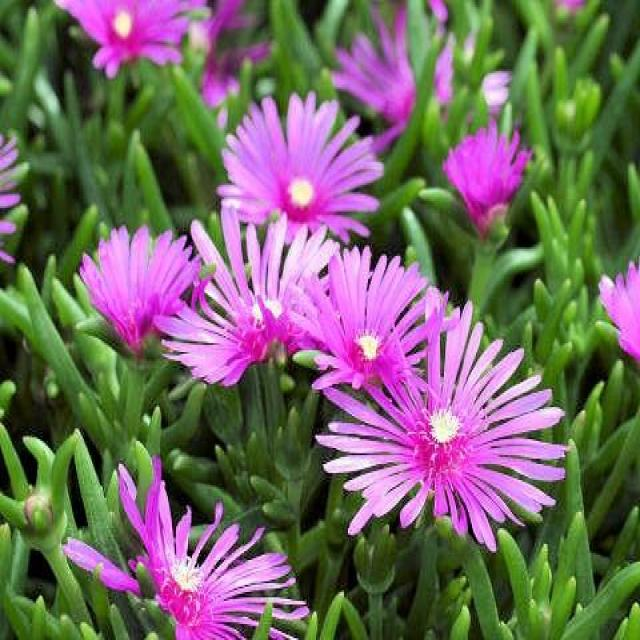organic waste: (317, 315, 566, 549), (61, 450, 304, 624), (145, 204, 367, 390), (208, 83, 389, 239), (77, 215, 219, 352), (294, 253, 446, 374), (437, 111, 532, 225), (71, 1, 204, 72)
